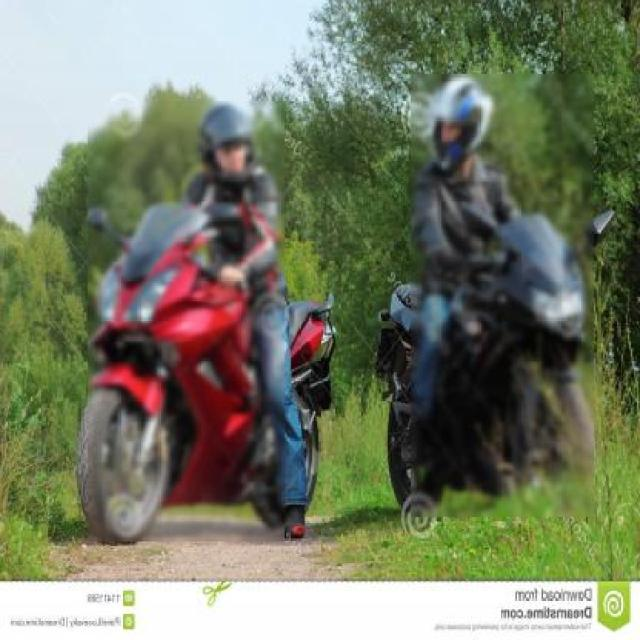helmet: (165, 73, 281, 191), (430, 47, 496, 182)
motorcycle: (358, 63, 636, 562), (64, 67, 326, 551)
